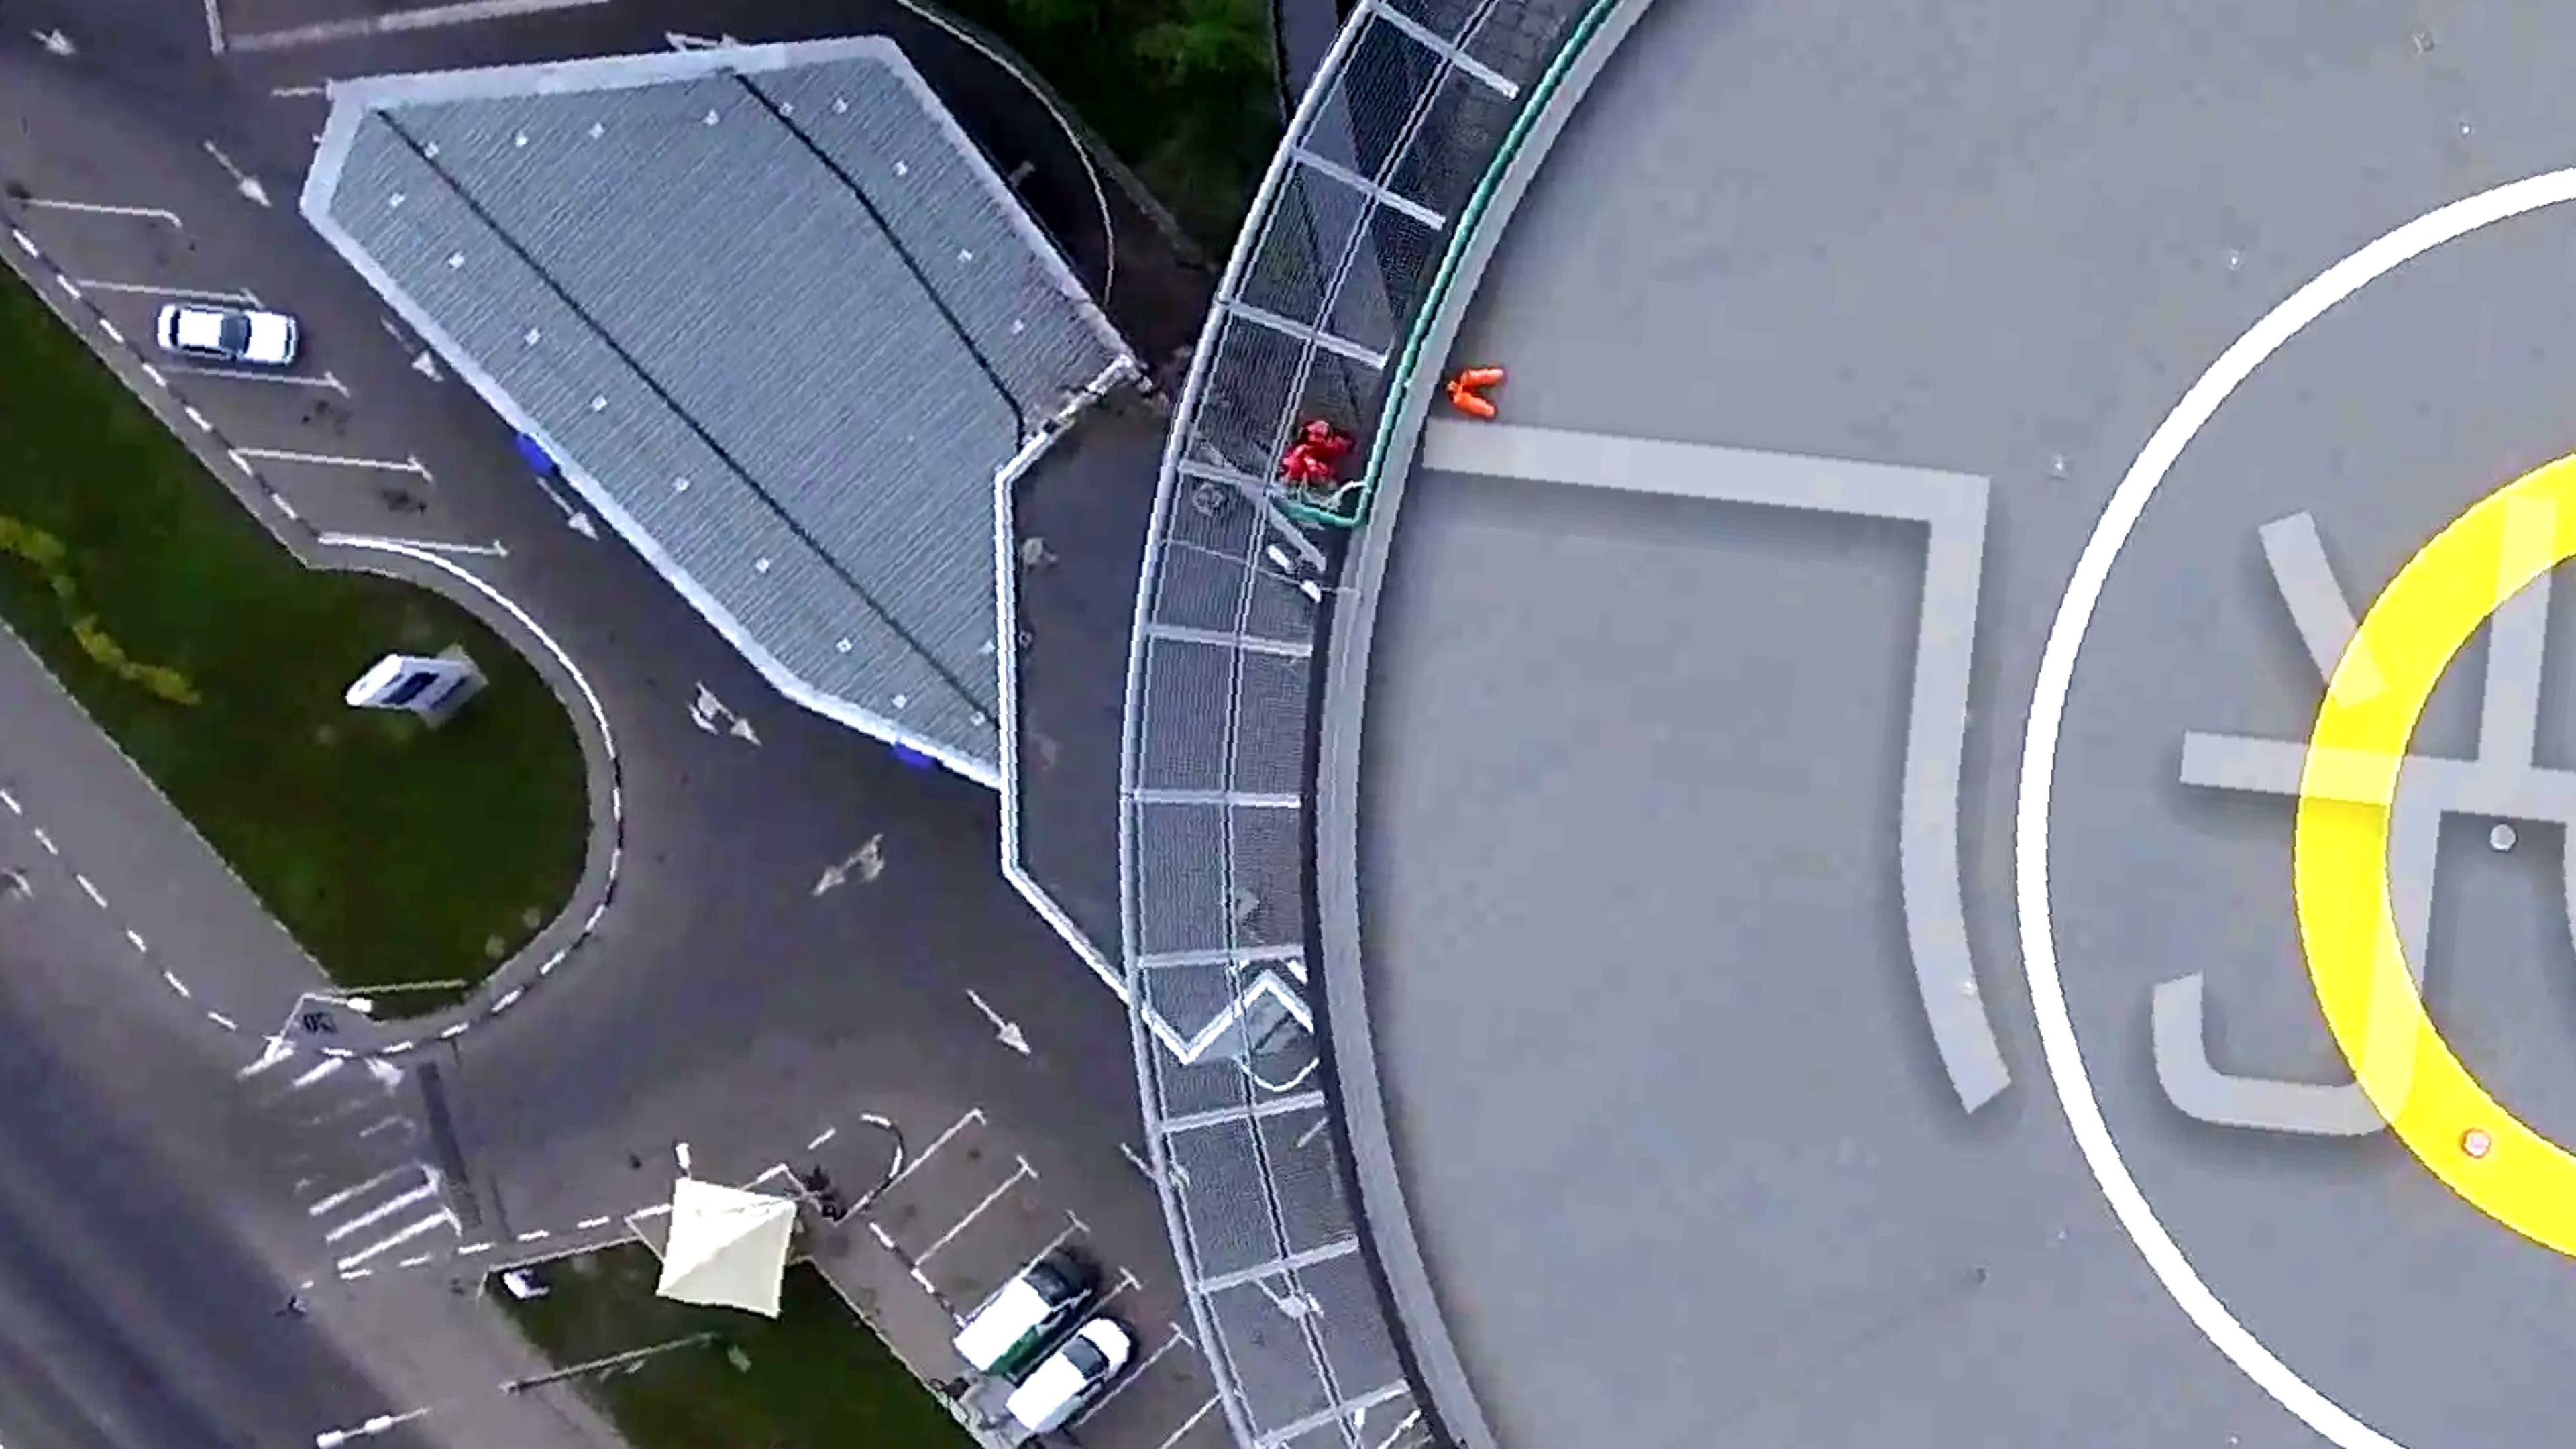Apron: (2282, 421, 2576, 1300)
